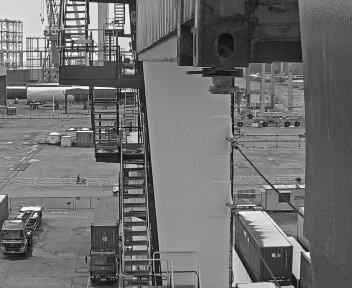twist_lock_1: (173, 155, 210, 187)
